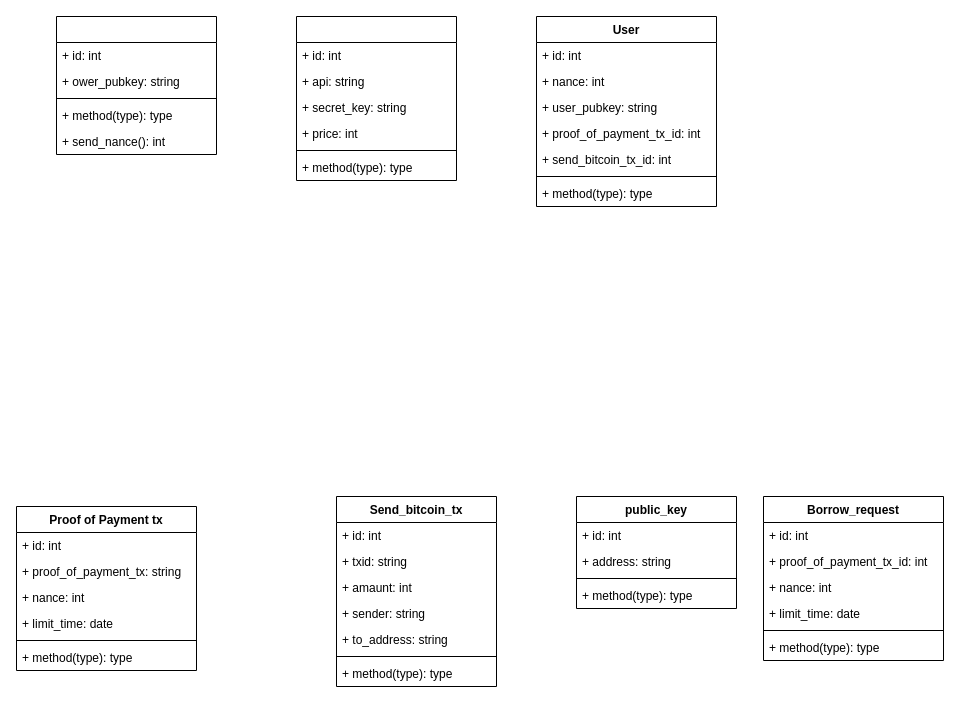
The diagram is 960 pixels wide and 703 high, and some of its shapes have lost their labels. The shapes that lost their labels are listed below. From the top down, each one's box as (x1, y1, x2, y2) in pixels, then its label:
(56, 16, 216, 154): Owner
(296, 16, 456, 180): Resource
